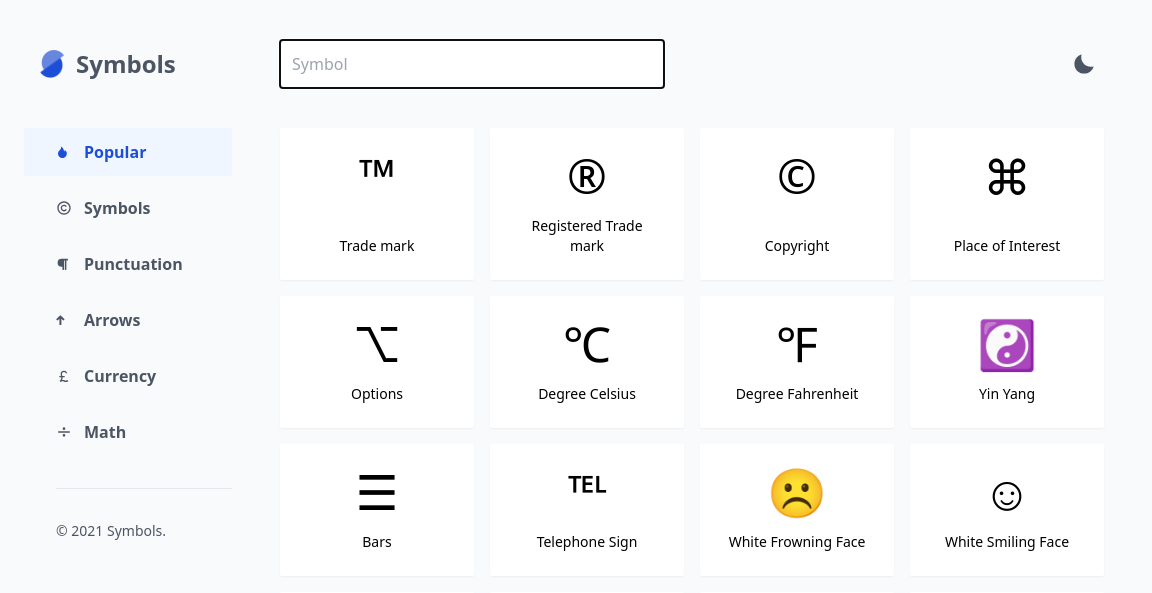
Test: Search › Shows the symbol not found message when no symbols are found.
Type "__TEXT__" into the field named "Search Symbols" at point(472, 64), box x1=280 y1=40 x2=664 y2=88
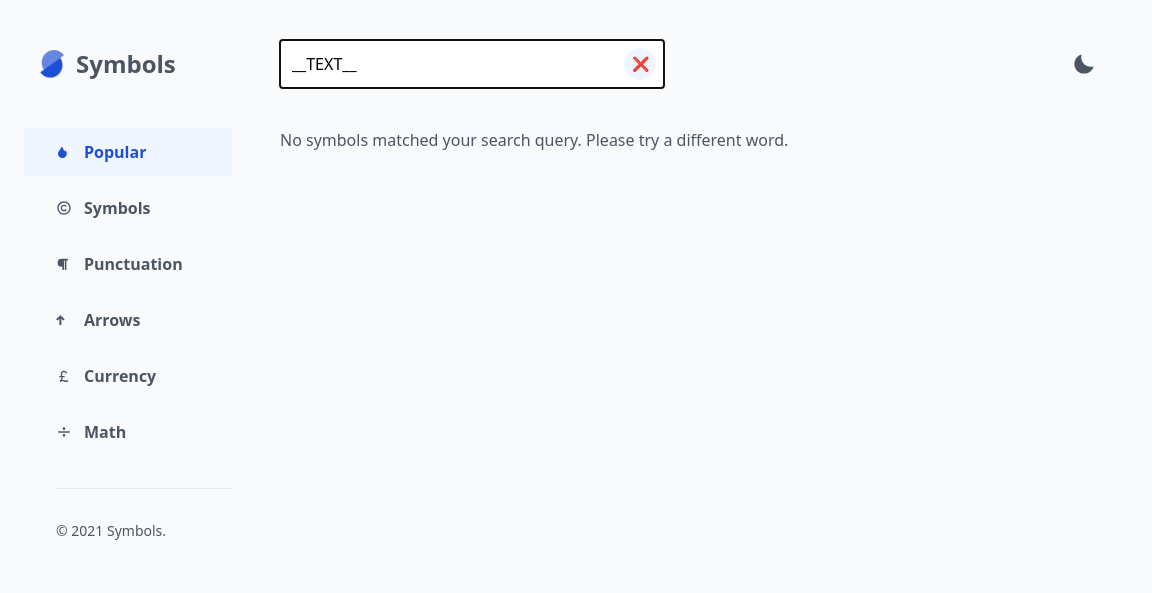
Result: the heading "No symbols matched your search query. Please try a different word." is shown at x1=280 y1=128 x2=788 y2=152
